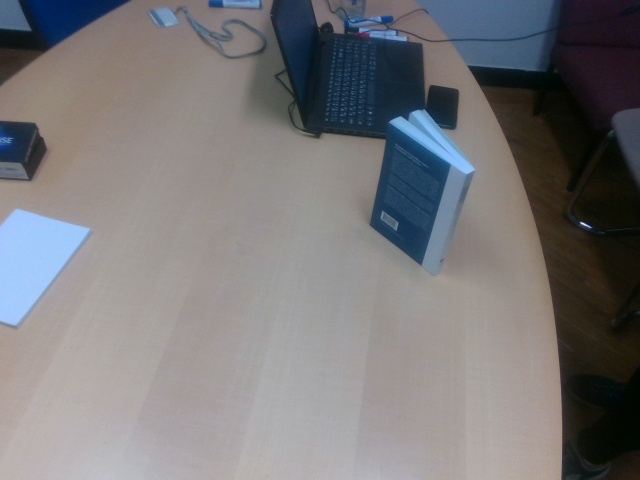book: (370, 109, 475, 273)
